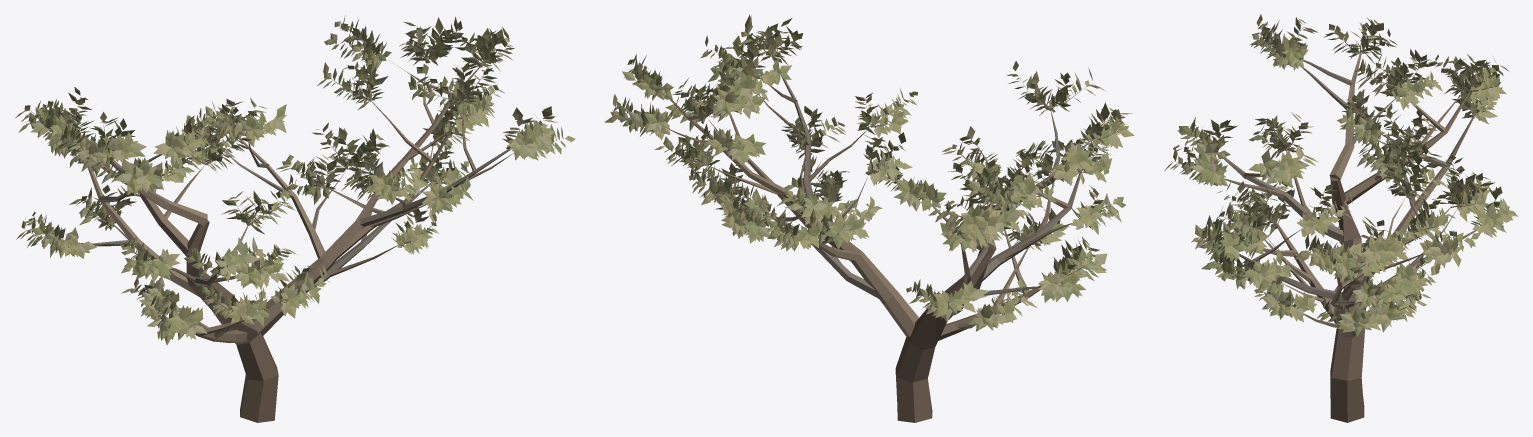
The model's file is broad-poplar.glb.
3 renders of one model, left to right at view 1: azimuth 30°, elevation 25°; view 2: azimuth 150°, elevation 25°; view 3: azimuth 270°, elevation 25°, orthographic. The views are drawn at different scales.
Bounding box in the file's own units: 4.49 × 3.2 × 2.99.
